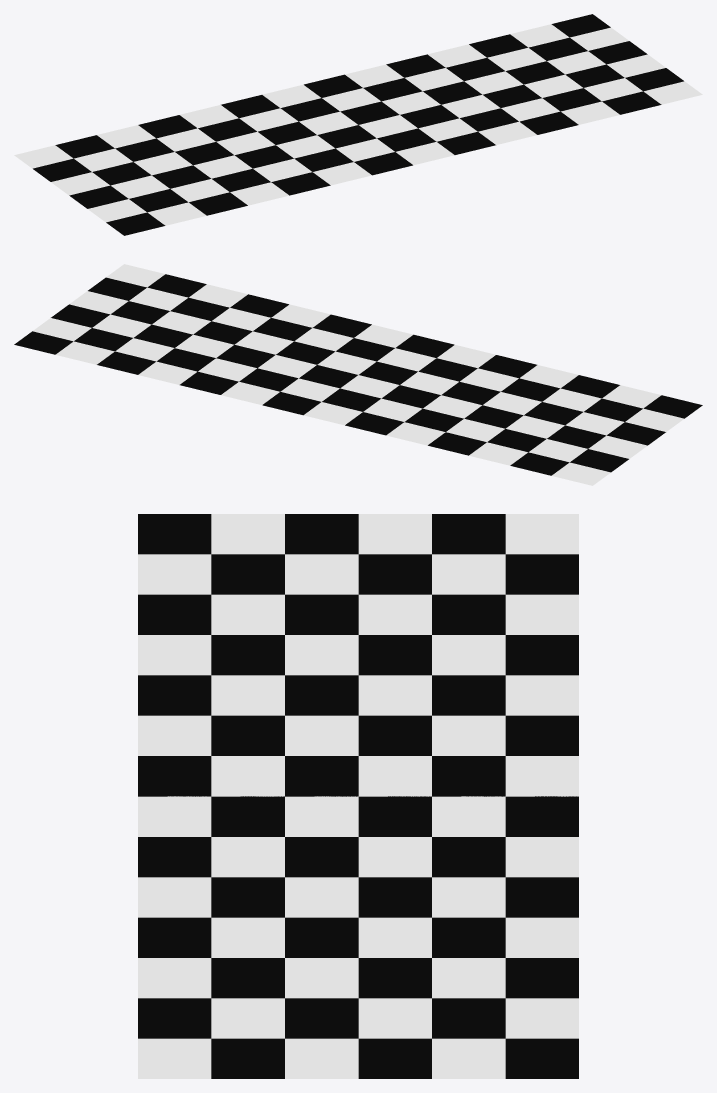
Rendered from finish_line.fbx.
3 views of the same model, one above another, from view 1: azimuth 30°, elevation 25°; view 2: azimuth 150°, elevation 25°; view 3: azimuth 270°, elevation 25° (orthographic). The views are drawn at different scales.
Parts seen in each view (by area): view 1: finishline; view 2: finishline; view 3: finishline.
Boxes of the visible parts, x1,y1,x2,y2 form: finishline: (14,14,702,235); finishline: (14,264,702,485); finishline: (138,514,578,1078).
Size of the model in its own units: 729 by 0 by 241.
